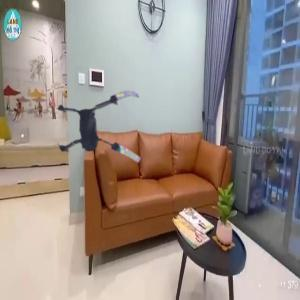drone: (44, 77, 155, 188)
